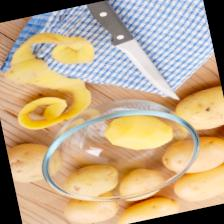potato: (98, 105, 175, 158), (156, 128, 224, 178), (5, 135, 66, 186), (167, 83, 224, 135), (57, 158, 121, 202), (167, 157, 224, 205), (111, 162, 168, 204), (111, 191, 180, 224), (59, 189, 120, 224)
